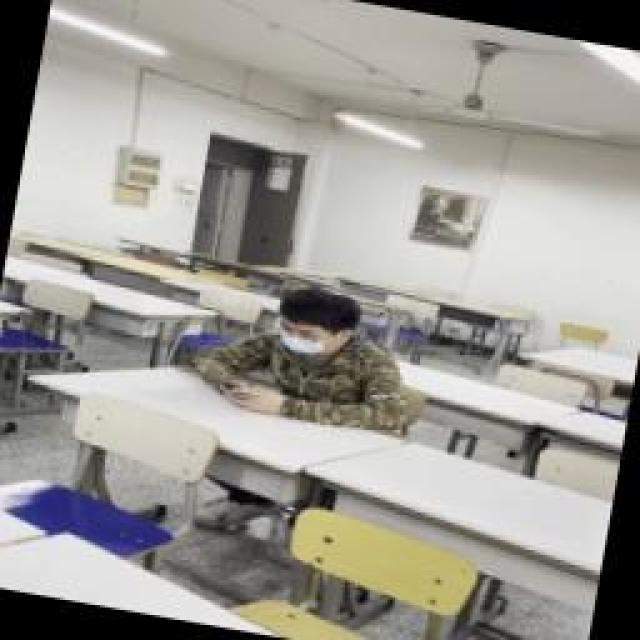phone: (188, 270, 422, 435)
